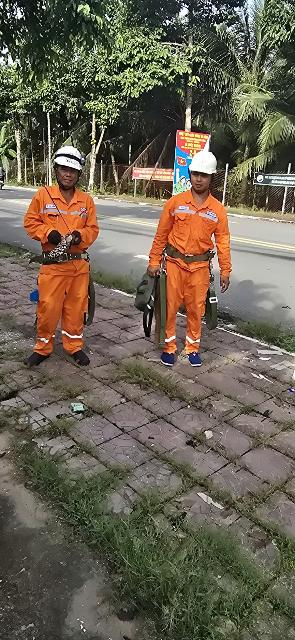gloves: (44, 227, 69, 245), (64, 230, 84, 244)
harness: (154, 243, 219, 266), (34, 247, 87, 268)
helmet: (47, 143, 90, 175), (186, 150, 221, 177)
shoes: (19, 346, 51, 366), (69, 346, 97, 367), (184, 350, 207, 368), (157, 351, 179, 369)
